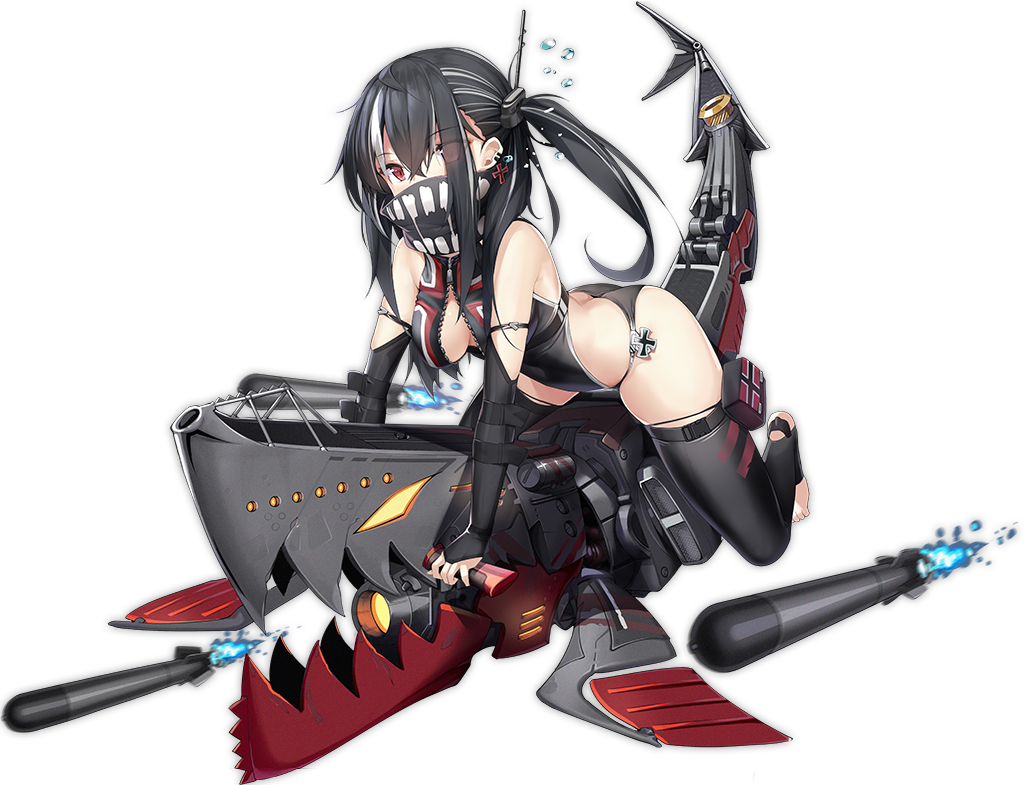person: (157, 37, 776, 655)
